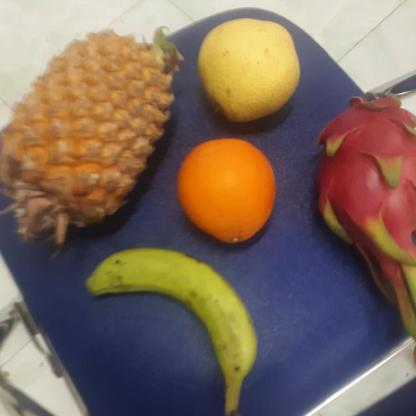banana: (94, 248, 259, 390)
orange: (177, 136, 279, 244)
pear: (197, 15, 304, 120)
pineapple: (0, 36, 174, 226)
pitaya: (316, 96, 416, 261)
